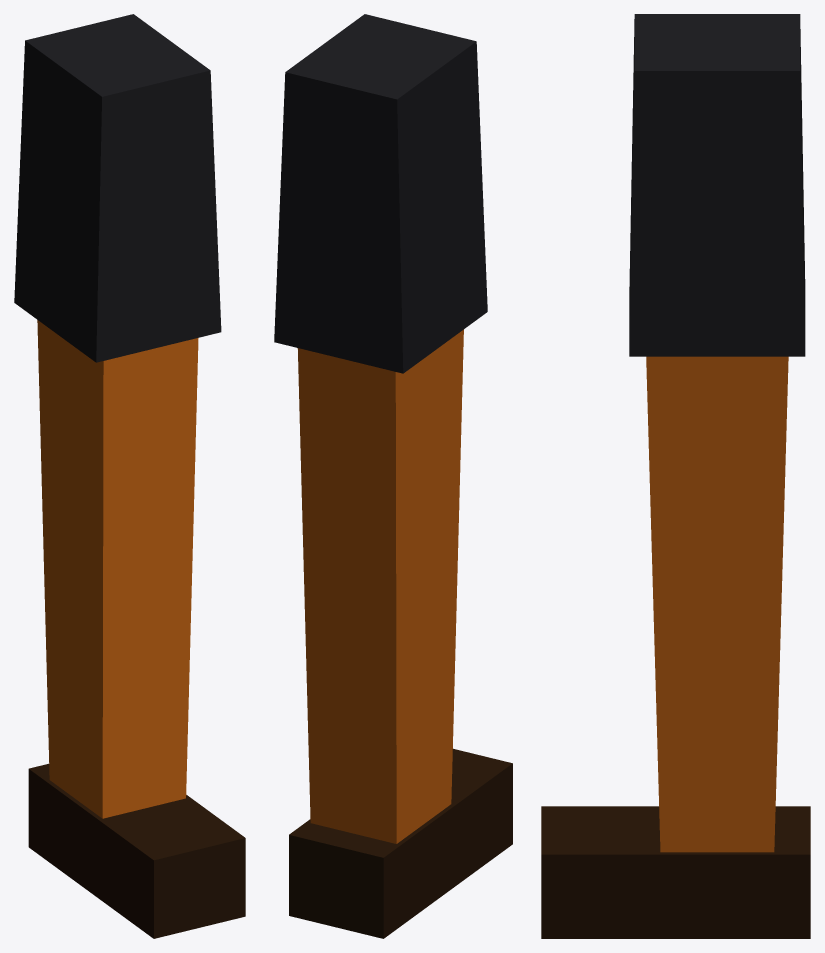
The model's file is leg_k15.glb.
3 renders of one model, left to right at view 1: azimuth 30°, elevation 25°; view 2: azimuth 150°, elevation 25°; view 3: azimuth 270°, elevation 25°, orthographic. The views are drawn at different scales.
Visible parts, largest first — view 1: leg_kit; view 2: leg_kit; view 3: leg_kit.
Part boxes in pixels (x1,y1,x2,y2): leg_kit: (14,14,245,938); leg_kit: (274,14,512,938); leg_kit: (541,14,810,938).
Size of the model in its own units: 0.15 by 0.93 by 0.26.
